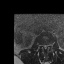CCS_normal: (44, 43, 46, 50)
LFS_severe_stenosis: (48, 42, 50, 48)
LLS_normal: (46, 43, 48, 48)
RFS_severe_stenosis: (41, 42, 43, 48)
RLS_normal: (42, 43, 44, 49)
